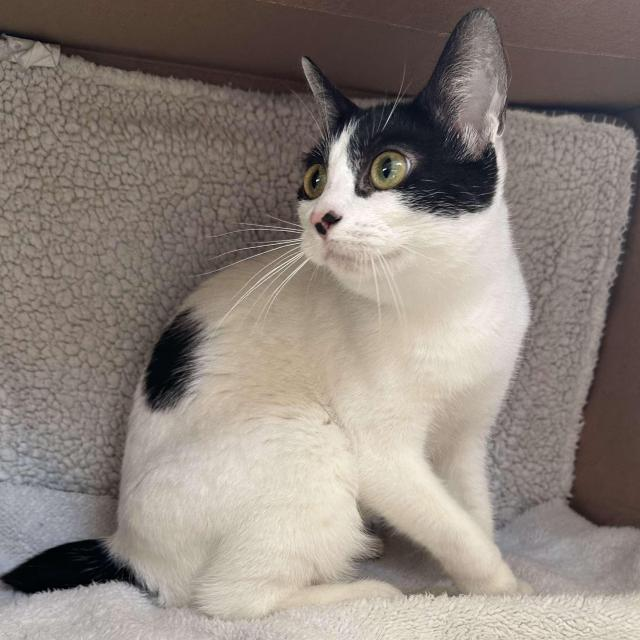American Bobtail: (0, 0, 535, 620)
